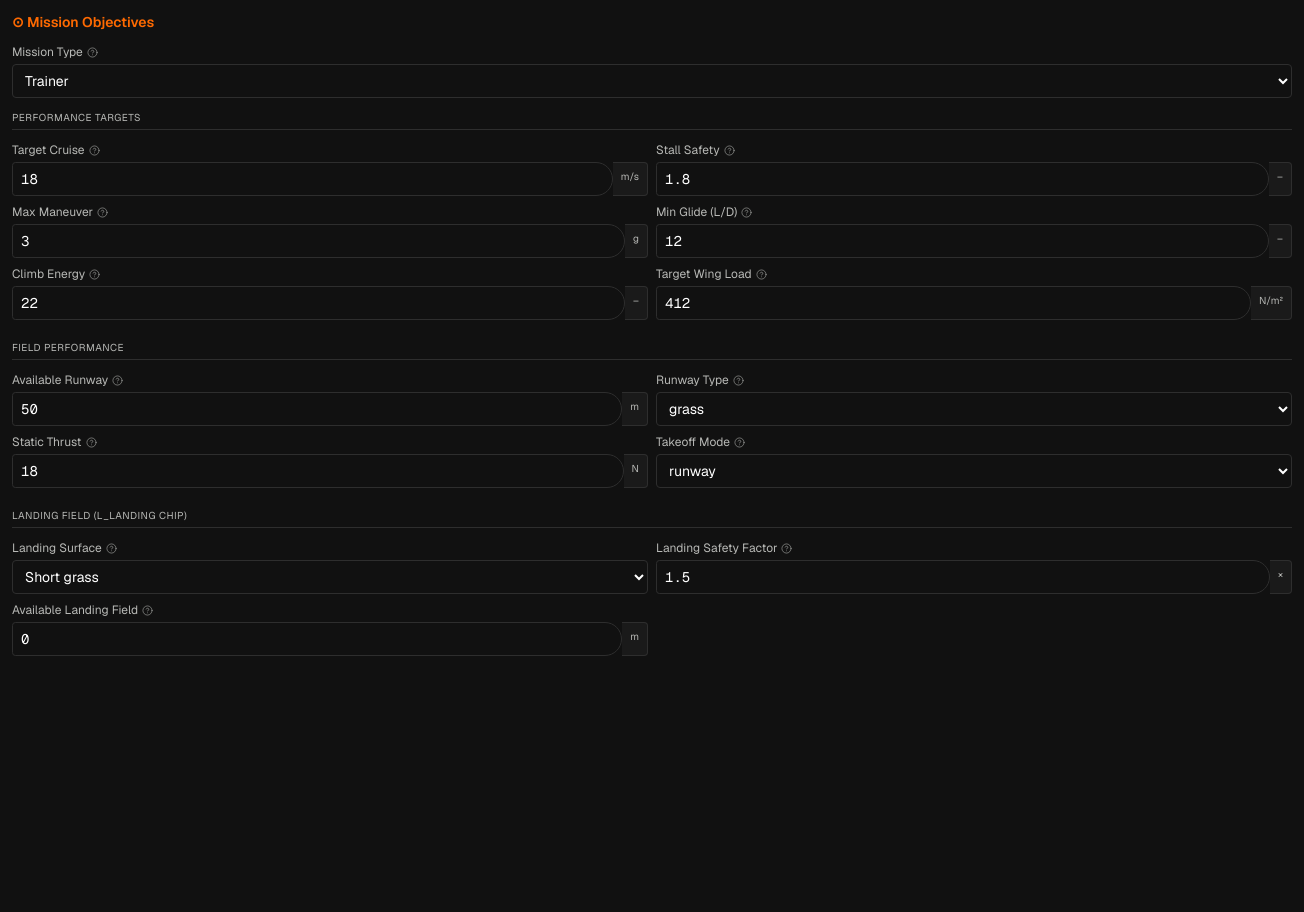
Test: MissionObjectivesPanel › applies all 6 target fields when Apply is clicked (gh-601)
Select "Motor Glider" in the dropdown labelled "Mission Type": (652,81) [12,64,1292,98]
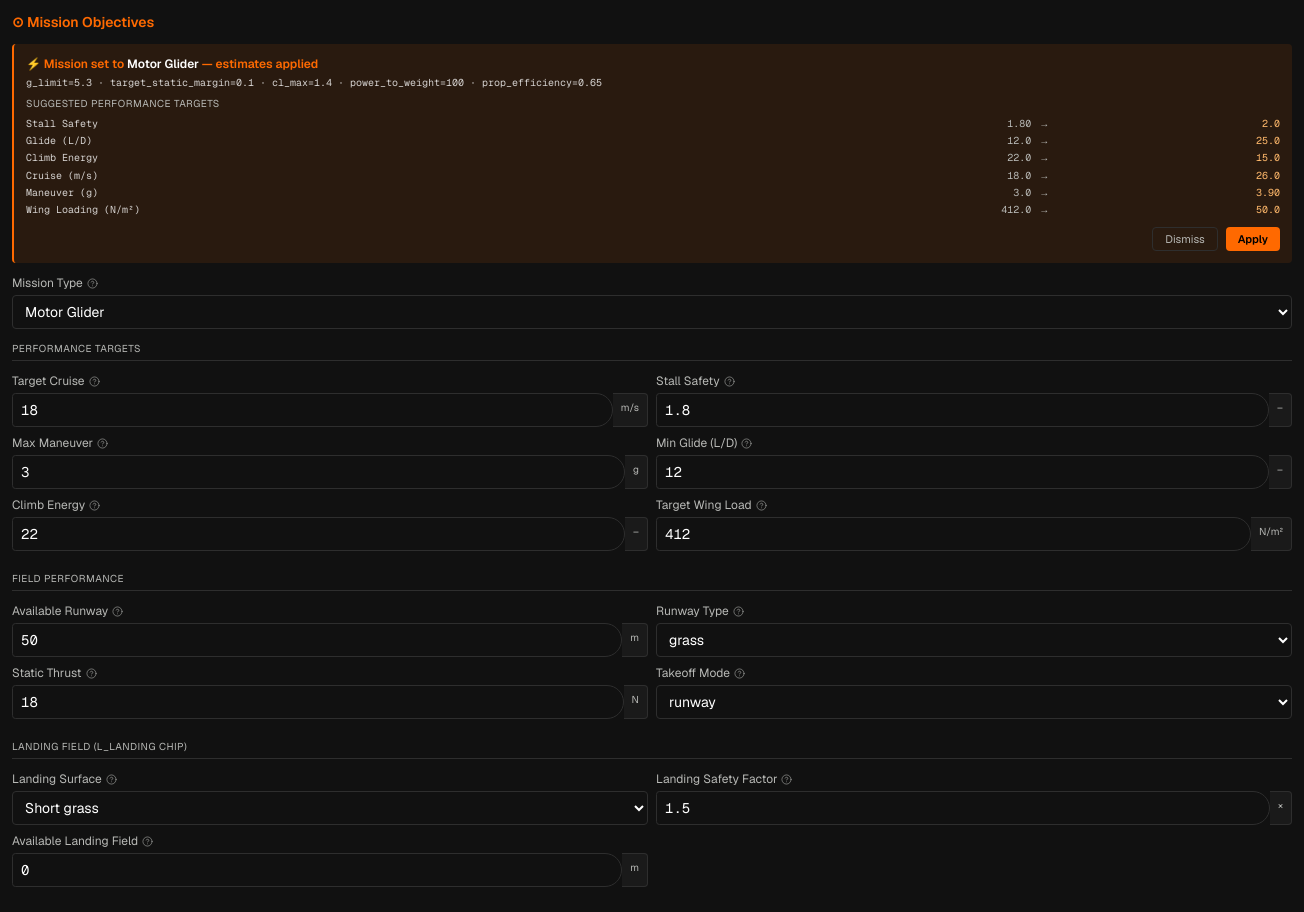
Click the button "Apply": (1253,239) [1226,227,1280,251]
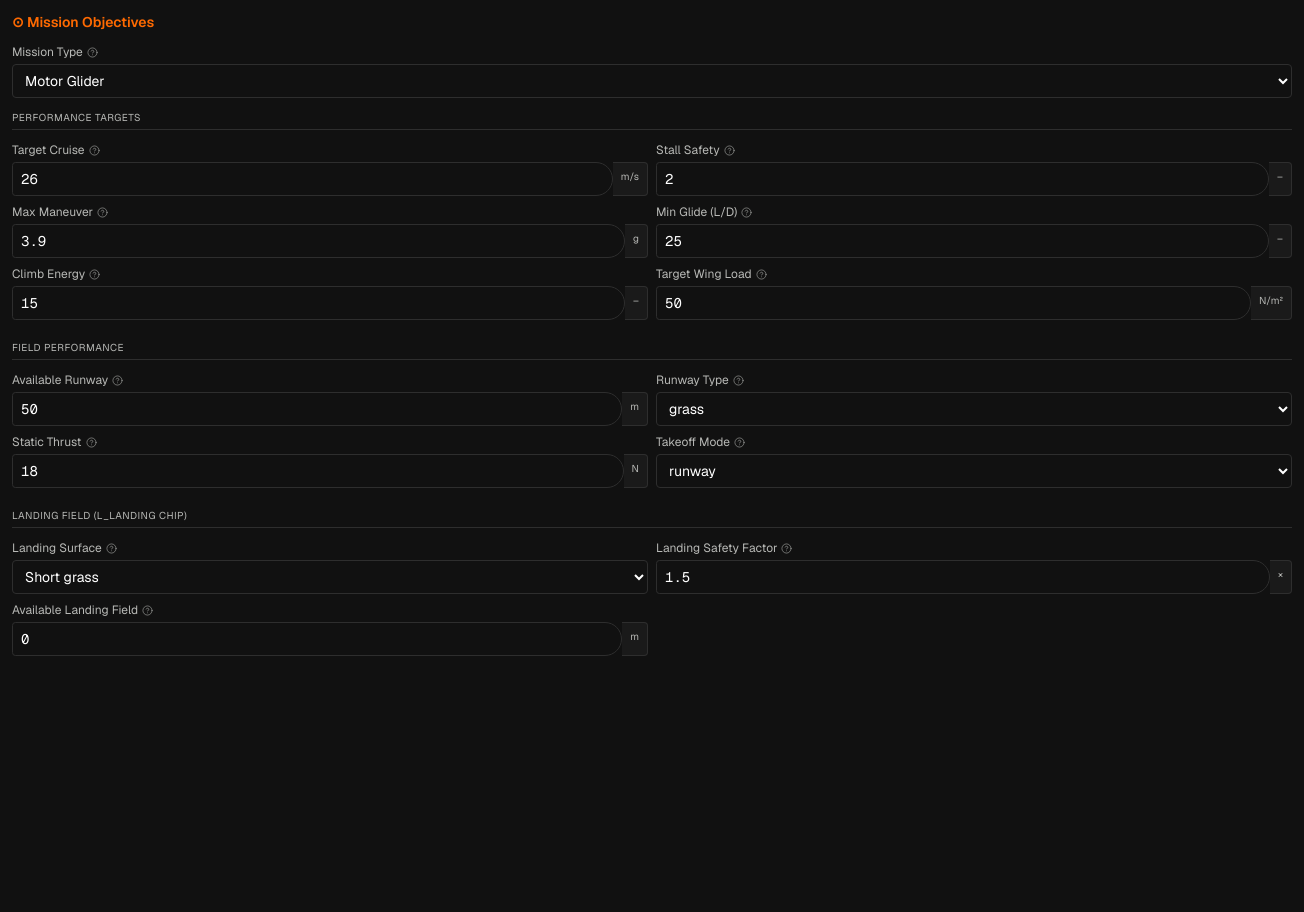
expect the element with test id "mission-apply-banner" is gone: met
